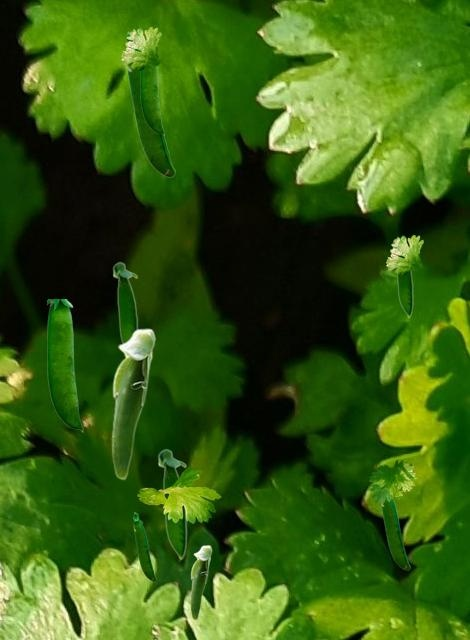pea: (126, 31, 174, 176), (111, 328, 155, 479), (47, 299, 82, 431), (157, 448, 186, 561), (112, 261, 137, 342), (380, 500, 409, 569), (140, 66, 163, 134), (190, 545, 211, 619), (392, 241, 412, 318), (133, 512, 155, 580)
